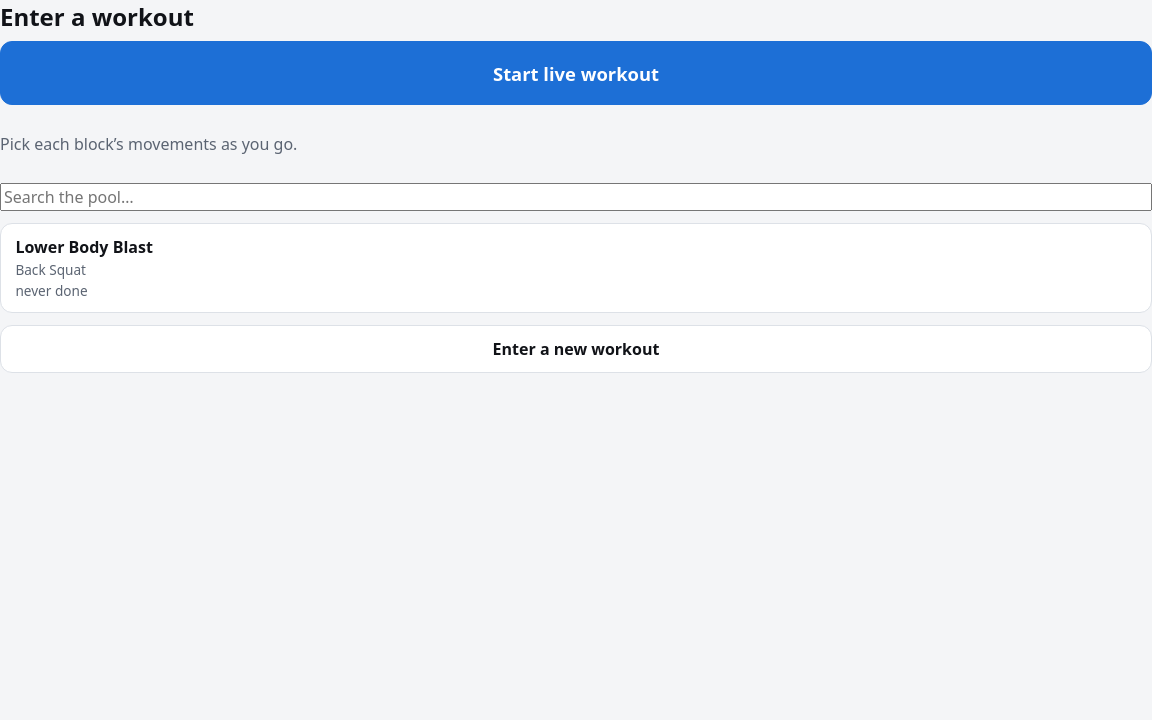
EnterWorkout ("/enter" screen, SPEC 10.8) › search mode › the "Enter a new workout" button switches to compose mode
What coordinates should you click on to do the following:
click the button "Enter a new workout"
I would click on:
 (576, 349)
Its box is [0, 325, 1151, 373].
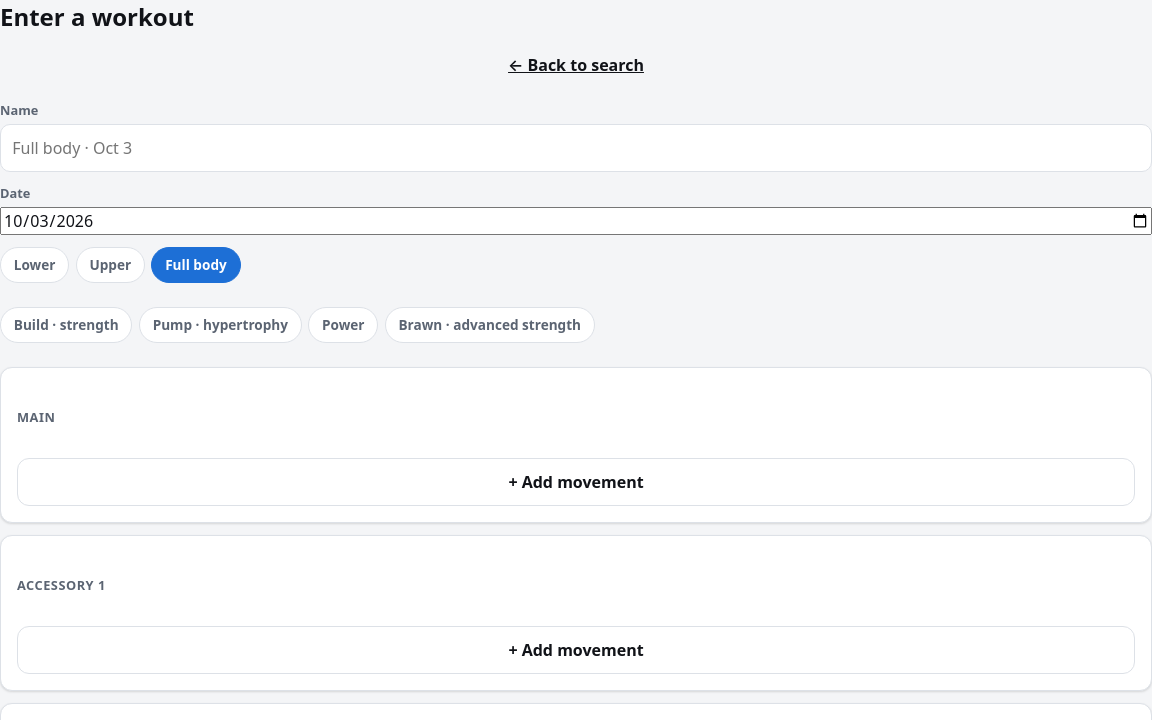
Check: the text "Main" is shown, box [17, 408, 55, 426]
Check: the link "← Back to search" is shown, box [508, 54, 644, 76]
